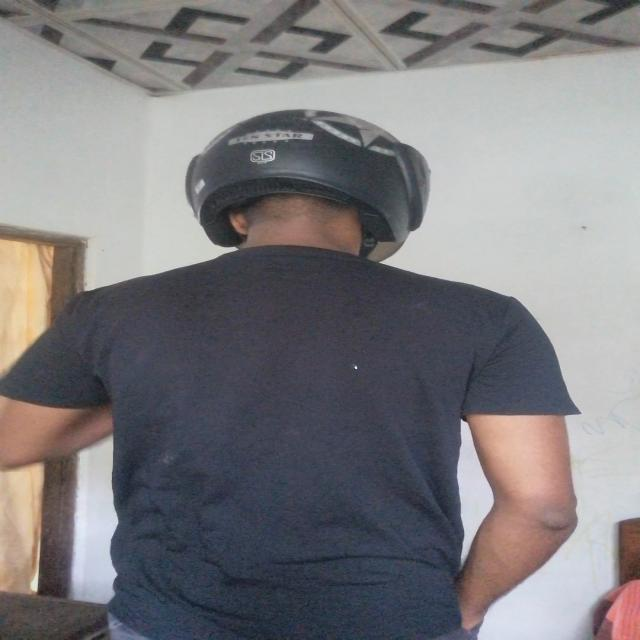Helmet_Wearer: (184, 111, 432, 290)
Person: (2, 106, 570, 640)
